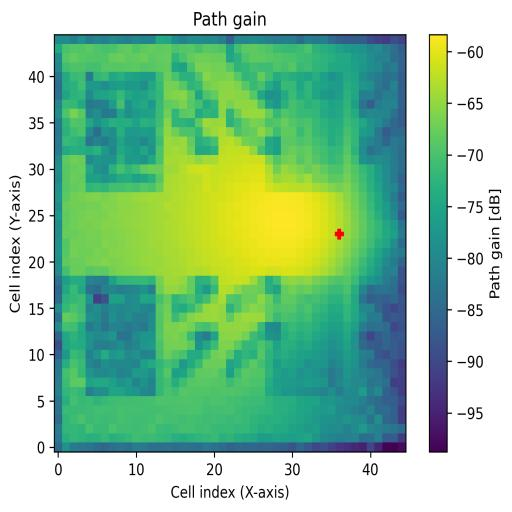Concrete: (264, 70, 344, 192)
Glass: (85, 73, 163, 193)
Metal: (265, 275, 345, 397)
Wood: (85, 275, 156, 395)
